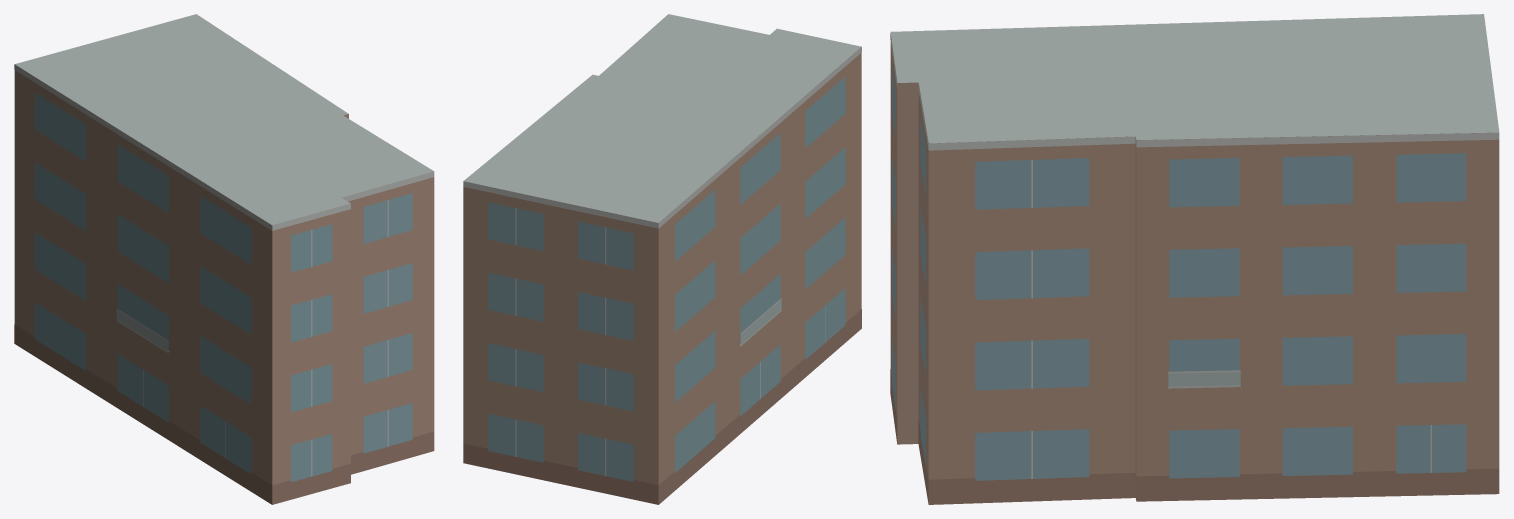
File: survey-upis-32734268.glb
3 renders of one model, left to right at view 1: azimuth 30°, elevation 25°; view 2: azimuth 150°, elevation 25°; view 3: azimuth 270°, elevation 25°, orthographic. The views are drawn at different scales.
Parts seen in each view (by area): view 1: survey-upis-32734268.tmp; view 2: survey-upis-32734268.tmp; view 3: survey-upis-32734268.tmp.
Boxes of the visible parts, x1,y1,x2,y2 form: survey-upis-32734268.tmp: (14, 14, 434, 504); survey-upis-32734268.tmp: (463, 14, 861, 504); survey-upis-32734268.tmp: (890, 14, 1499, 504).
Size of the model in its own units: 9.38 by 12.2 by 18.64.
